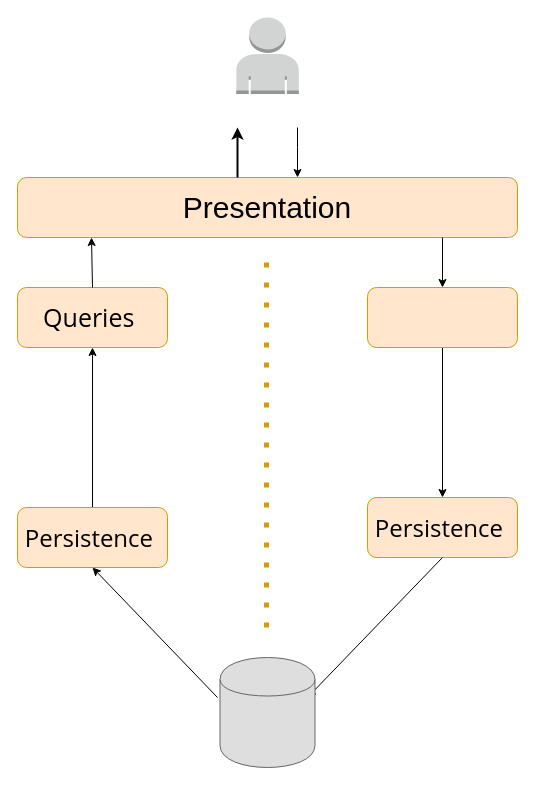
Image size: 535x785. Some labels were removed from this diagram. Each missing label, with the centre of its shape:
Commands: the point at 442,317
Database: the point at 267,712
